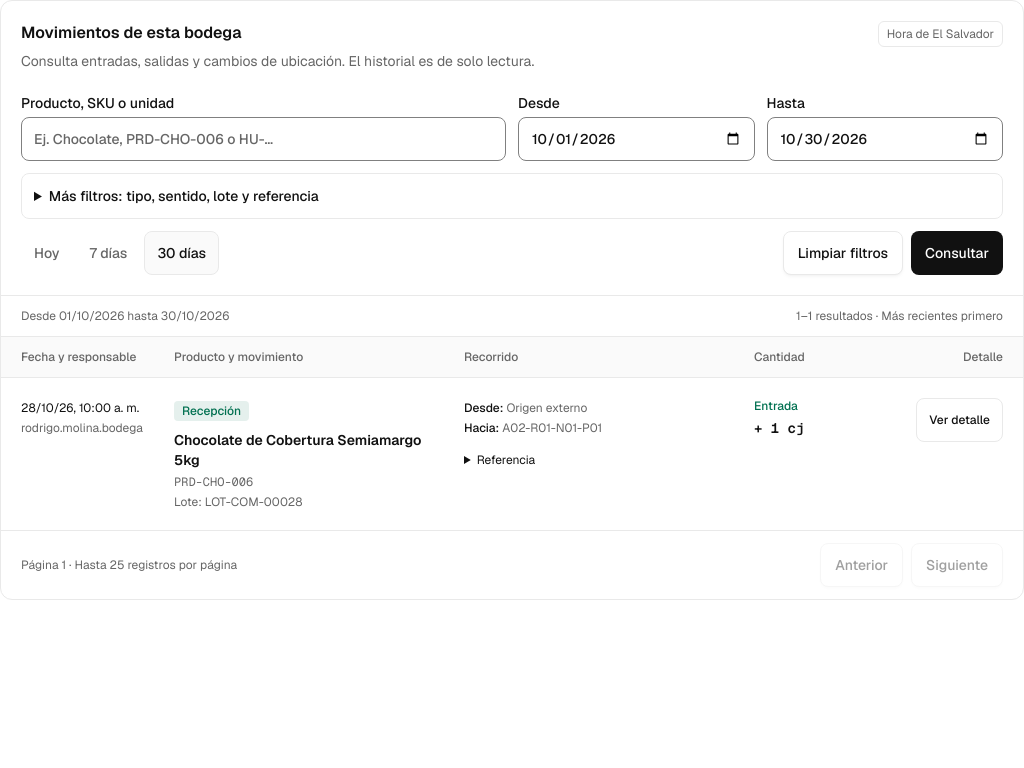
Movimientos del bodeguero › rechaza fechas invertidas sin lanzar otra consulta
The image size is (1024, 768).
Check: the text "Chocolate de Cobertura Semiamargo 5kg" is shown, box [174, 430, 448, 470]
Step 1. Type "2026-12-01" into the date field labelled "Desde" → (636, 139), box [518, 117, 754, 161]
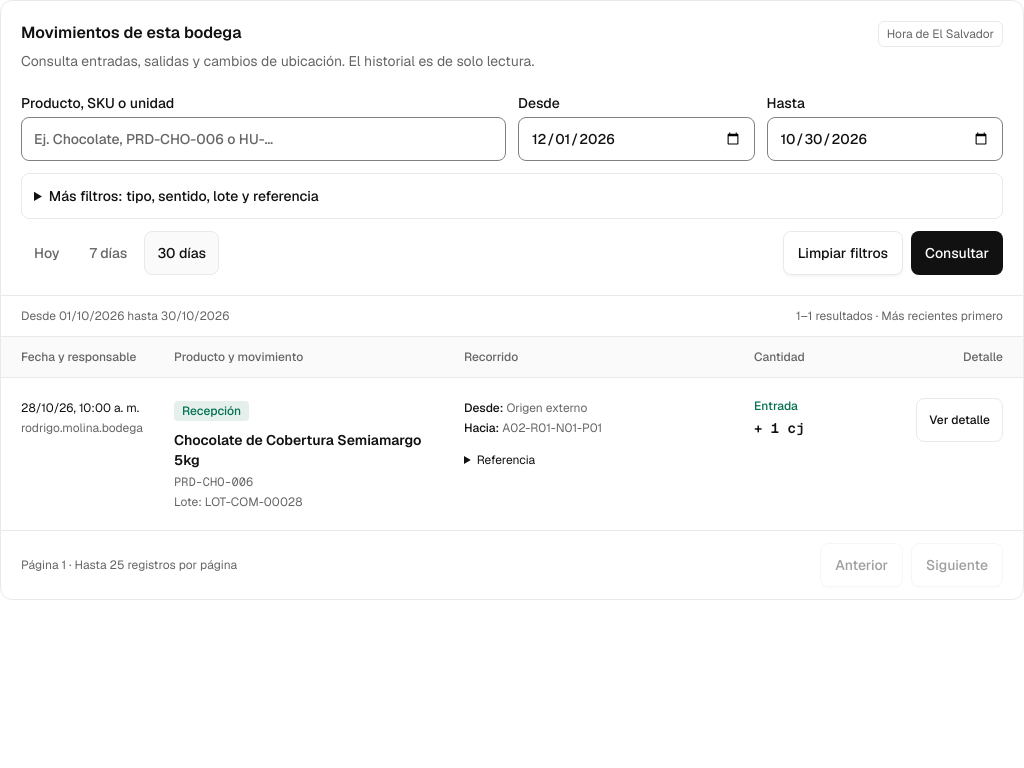
Step 2. Type "2026-10-28" into the date field labelled "Hasta" → (885, 139), box [766, 117, 1003, 161]
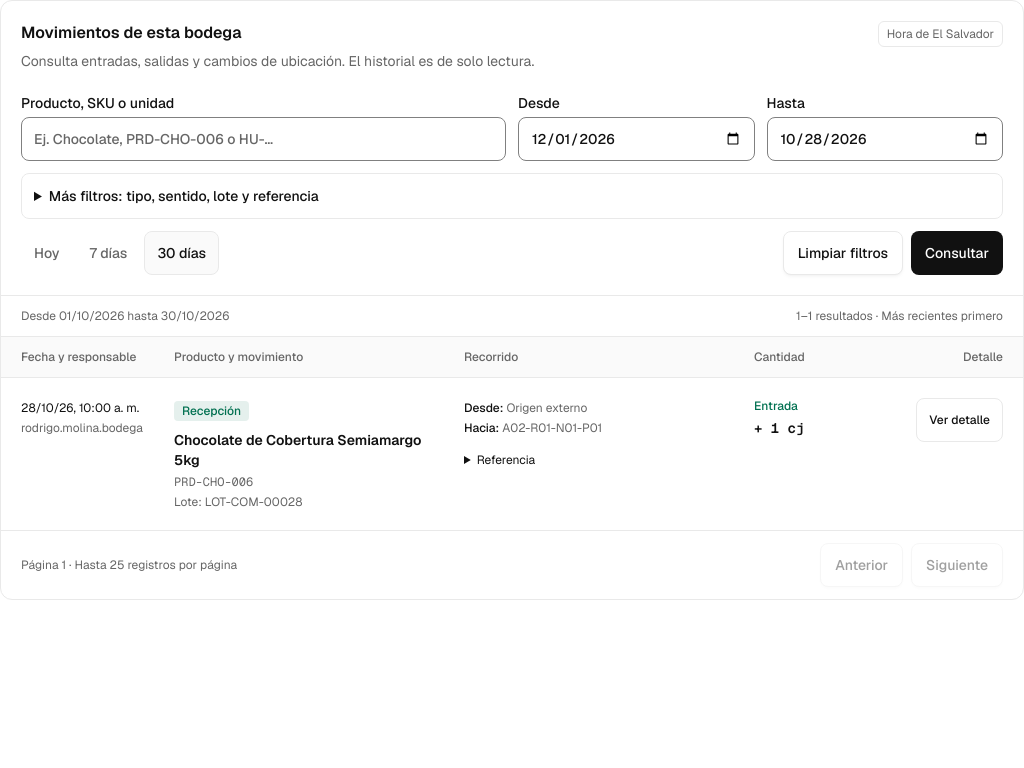
Step 3. Click the button "Consultar" → (957, 253), box [911, 231, 1003, 275]
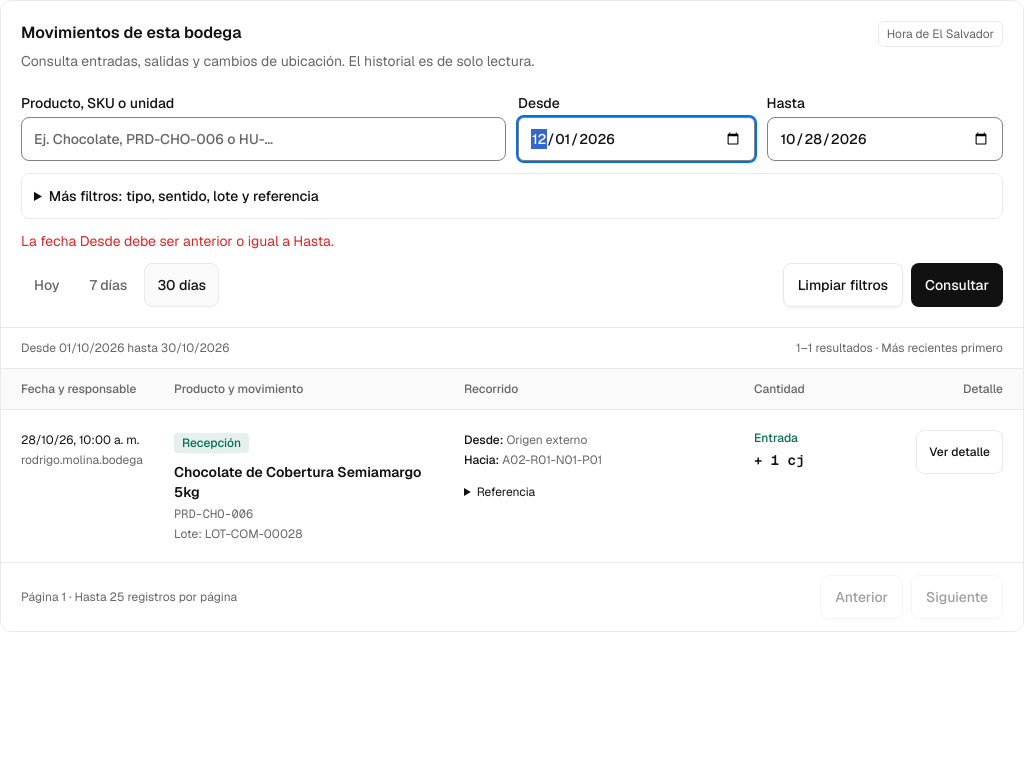
Check: the message "La fecha Desde debe ser anterior o igual a Hasta." is shown, box [21, 232, 334, 250]
